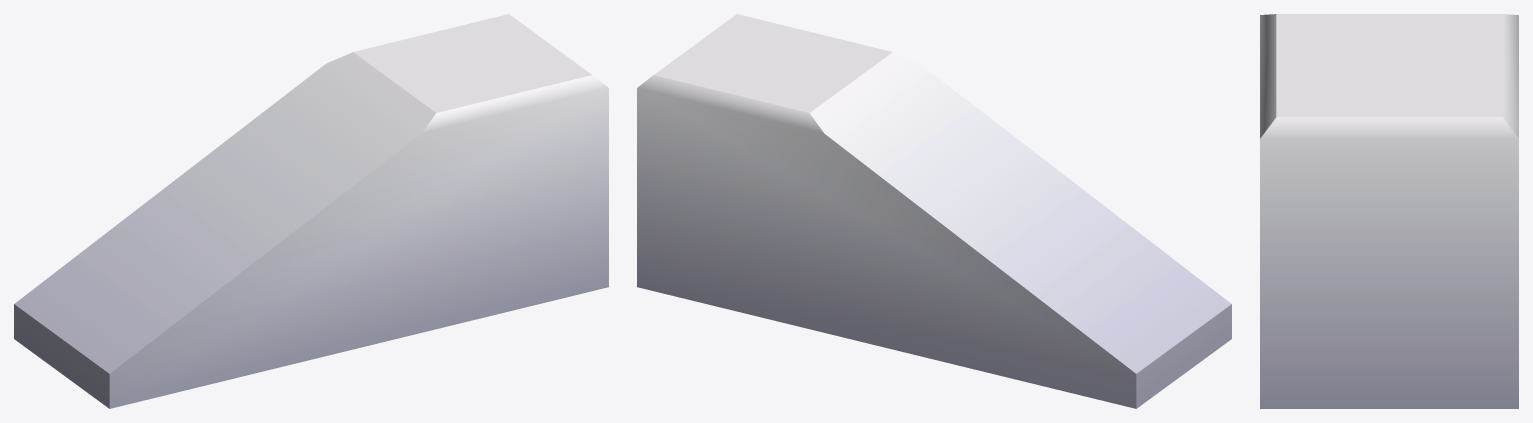
The model's file is kenney-brick-none-hq-brick-slope-3-x-1.glb.
The picture shows the model from 3 angles, left to right: view 1: azimuth 30°, elevation 25°; view 2: azimuth 150°, elevation 25°; view 3: azimuth 270°, elevation 25°; orthographic projection. The views are drawn at different scales.
Parts seen in each view (by area): view 1: none-hq-brick-slope-3x1; view 2: none-hq-brick-slope-3x1; view 3: none-hq-brick-slope-3x1.
Boxes of the visible parts, x1=… form: none-hq-brick-slope-3x1: x1=14, y1=14, x2=608, y2=408; none-hq-brick-slope-3x1: x1=637, y1=14, x2=1231, y2=408; none-hq-brick-slope-3x1: x1=1260, y1=14, x2=1518, y2=408.
Size of the model in its own units: 0.2385 by 0.096 by 0.079.
1 material, 1 textured.
